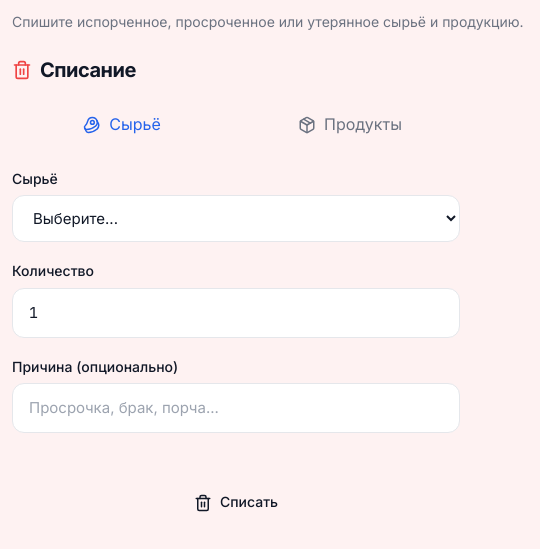
Test case: WriteOffManager › switches between materials and products
Click the button "Продукты" at (350, 125), box [240,100,460,150]
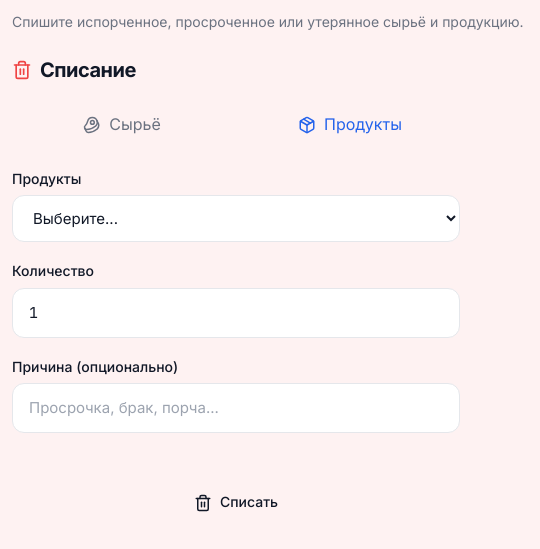
Select "Cake (остаток: 5 pcs)" in the dropdown at (236, 219), box [12,195,460,242]
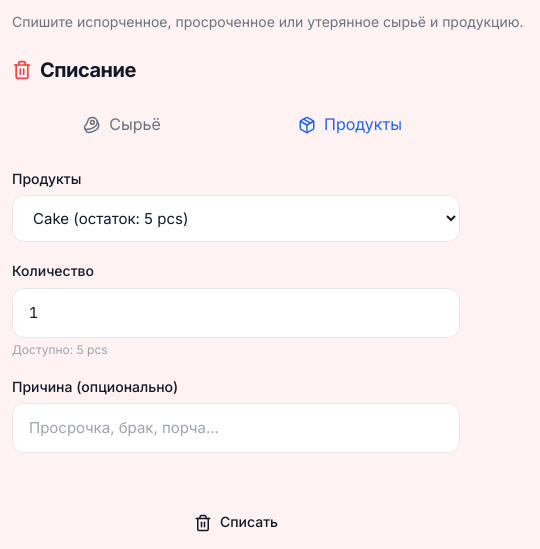
Expected: the text "Доступно: 5 pcs" is shown, [12,342,108,357]
